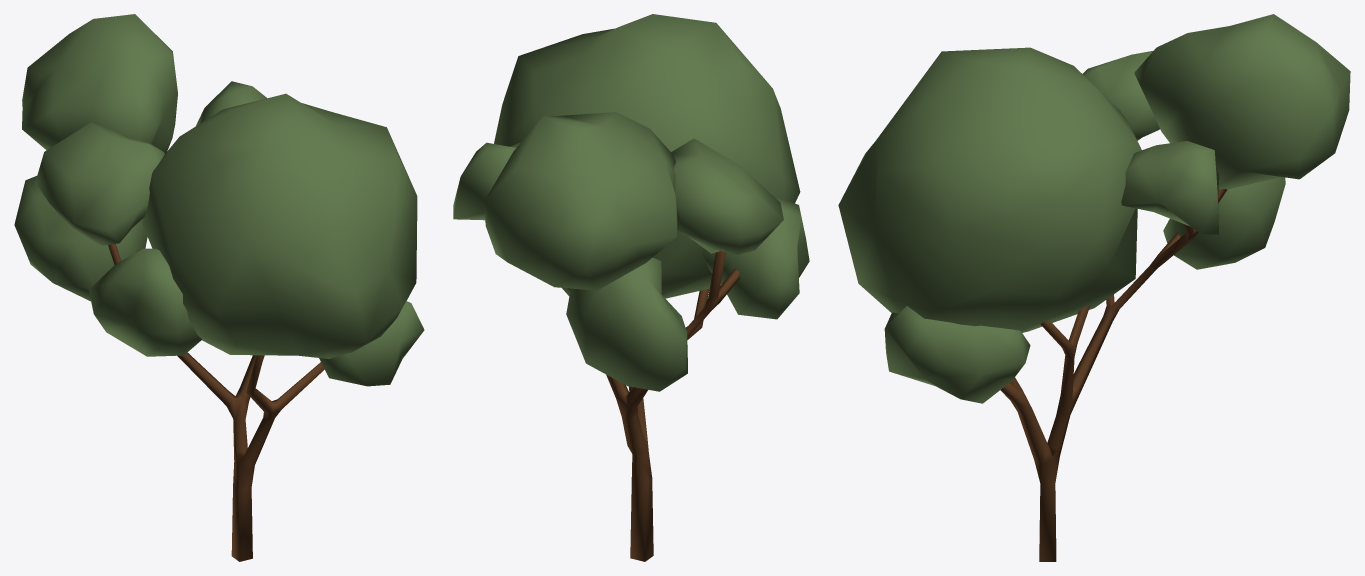
Rendered from Tree2.fbx.
The picture shows the model from 3 angles, left to right: view 1: azimuth 30°, elevation 25°; view 2: azimuth 150°, elevation 25°; view 3: azimuth 270°, elevation 25°; orthographic projection. The views are drawn at different scales.
Visible parts, largest first — view 1: Tree2; view 2: Tree2; view 3: Tree2.
Boxes of the visible parts, x1,y1,x2,y2 form: Tree2: [14, 14, 424, 561]; Tree2: [453, 14, 809, 561]; Tree2: [838, 14, 1350, 561].
Bounding box in the file's own units: 727 × 1162 × 1037.
